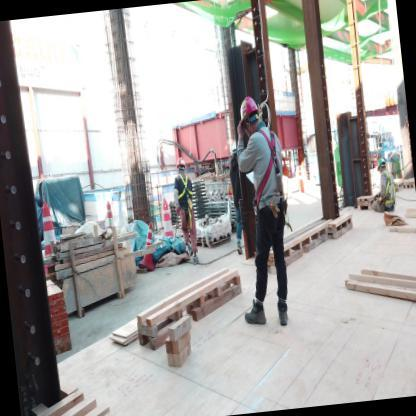safety-shoe: (238, 297, 270, 332), (277, 301, 294, 331), (235, 244, 244, 256), (192, 256, 200, 264), (187, 246, 194, 255)
